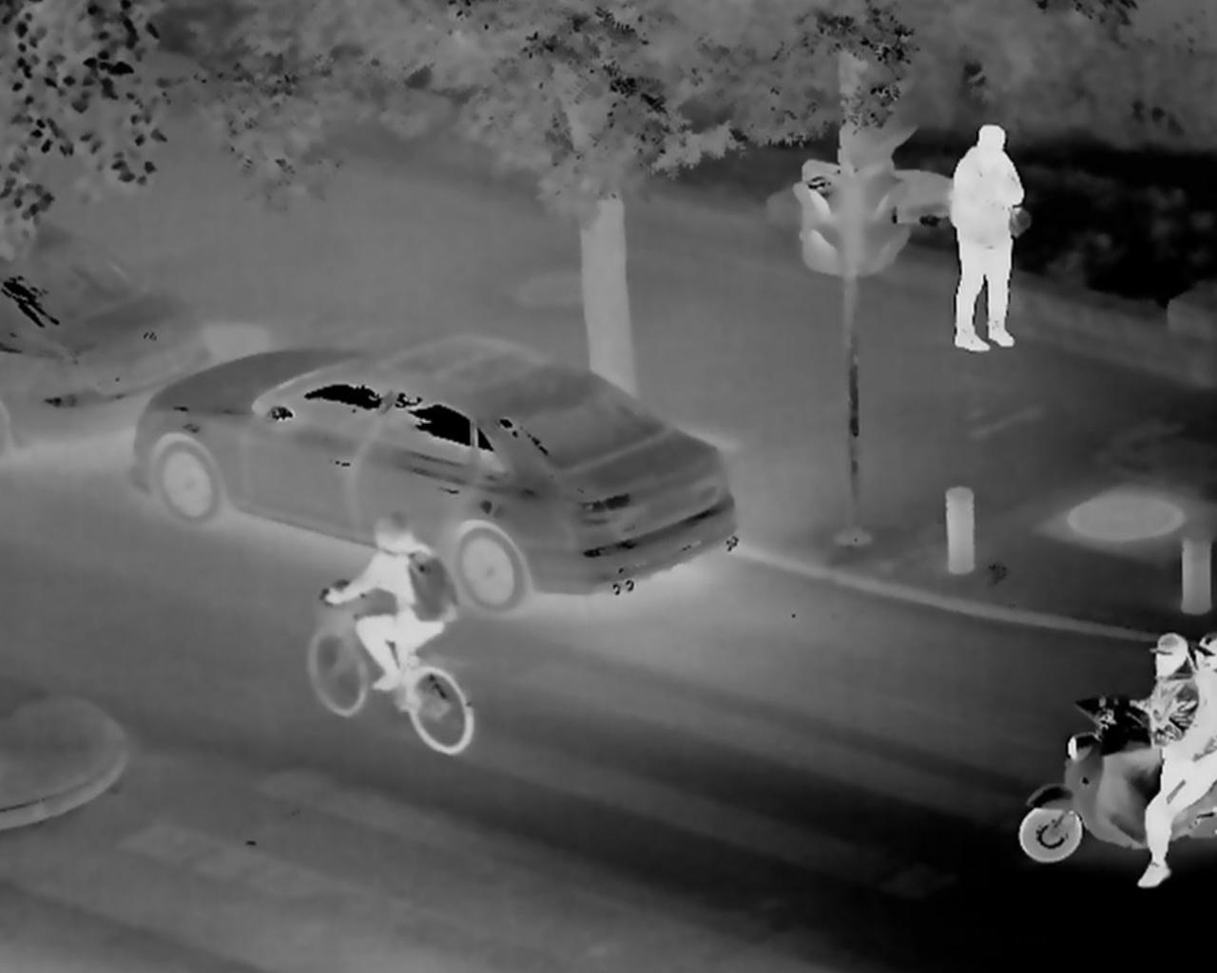person: (319, 510, 461, 699), (927, 117, 1028, 362), (1125, 626, 1217, 894)
